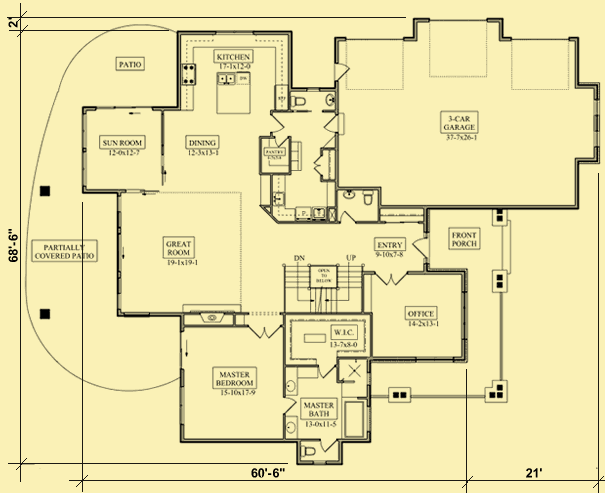door: (241, 320, 281, 342), (264, 110, 287, 138), (373, 270, 407, 288), (409, 234, 433, 257), (330, 60, 352, 83), (316, 434, 340, 455), (315, 360, 335, 382), (310, 152, 327, 176), (338, 208, 358, 226), (280, 396, 298, 415), (322, 113, 341, 131)
kitchen bar: (214, 69, 254, 117)
large sink: (358, 187, 378, 213), (287, 91, 308, 112), (297, 442, 317, 460)
sink: (196, 309, 225, 325)
small sink: (284, 415, 300, 444), (336, 185, 360, 204), (285, 366, 299, 396), (316, 91, 337, 110)
stairs: (281, 251, 367, 317)
tub: (342, 398, 367, 440)
windows: (78, 109, 91, 187), (456, 287, 473, 344), (592, 96, 603, 152), (210, 27, 256, 40), (176, 383, 186, 427)
